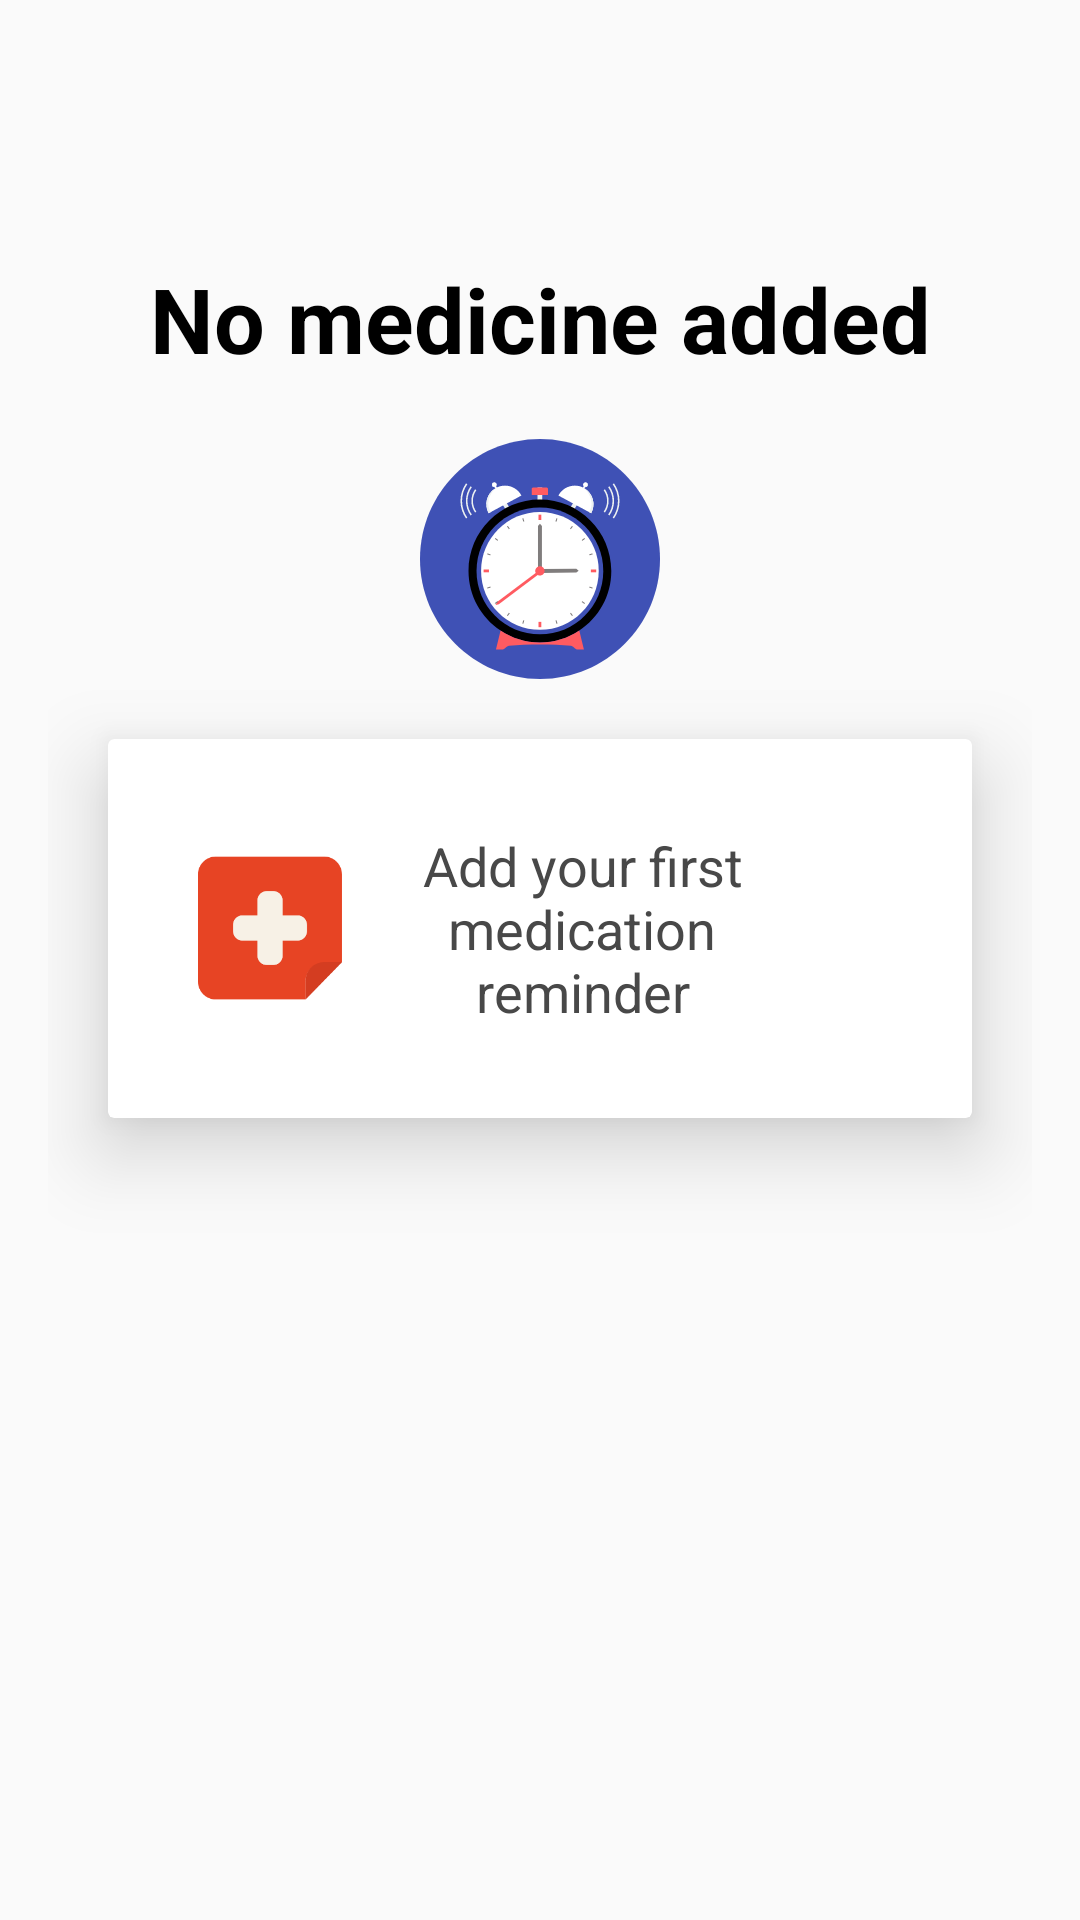

Named icons in this screenshot (1080×1920) and their centers, (x,y):
alarm clock: (540,559)
